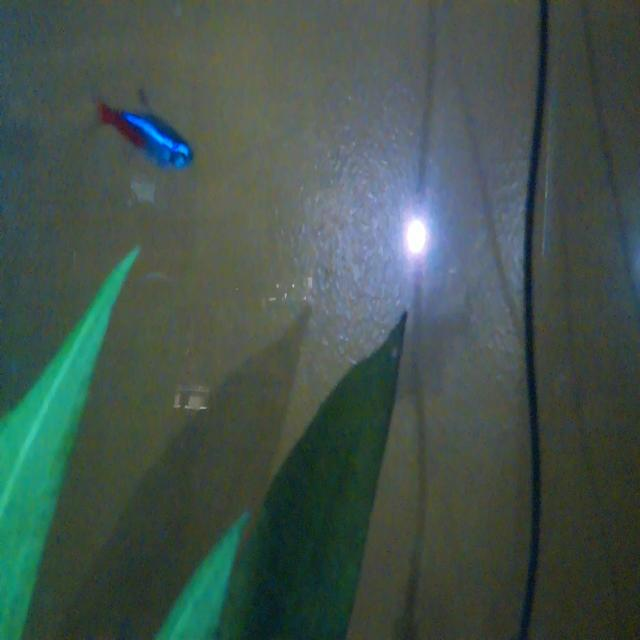fish: (92, 71, 202, 186)
